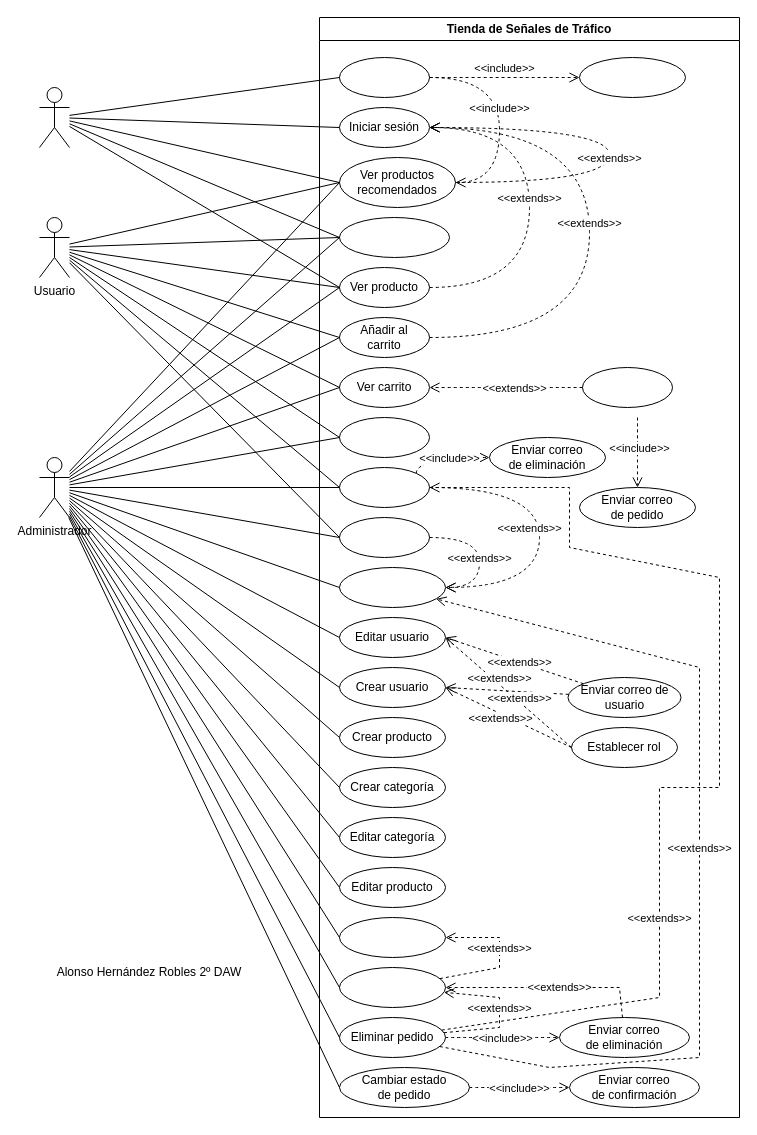
Image size: 757x1135. Some labels were removed from this diagram. The centre of each missing label's shape, as x and y in pixels:
"Buscar producto" goes at (394,237).
"Cerrar sesión" goes at (384,537).
"Crear Valoración" goes at (384,437).
"Eliminar categoría" goes at (392,937).
"Eliminar producto" goes at (392,987).
"Eliminar usuario" goes at (392,587).
"Eliminar Valoración" goes at (384,487).
"Enviar correo de registro" goes at (632,77).
"Hacer pedido" goes at (627,387).
"Registrarse" goes at (384,77).
"Visitante" goes at (54,117).
